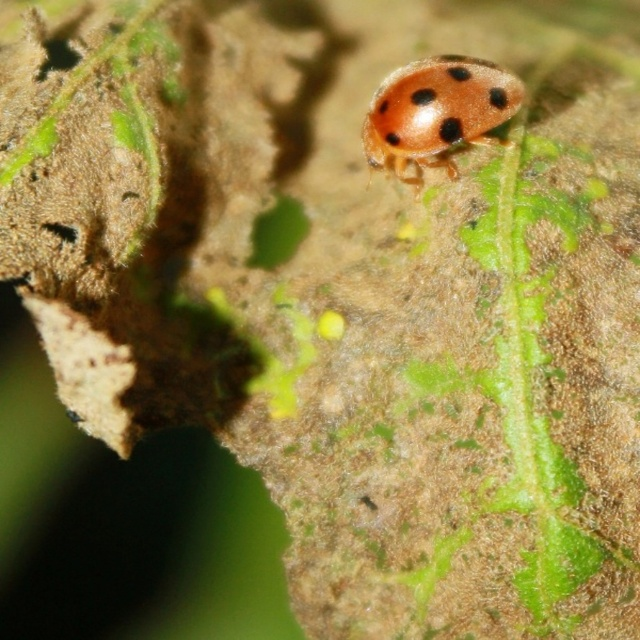Ladybug: (357, 51, 527, 200), (364, 55, 523, 194)
